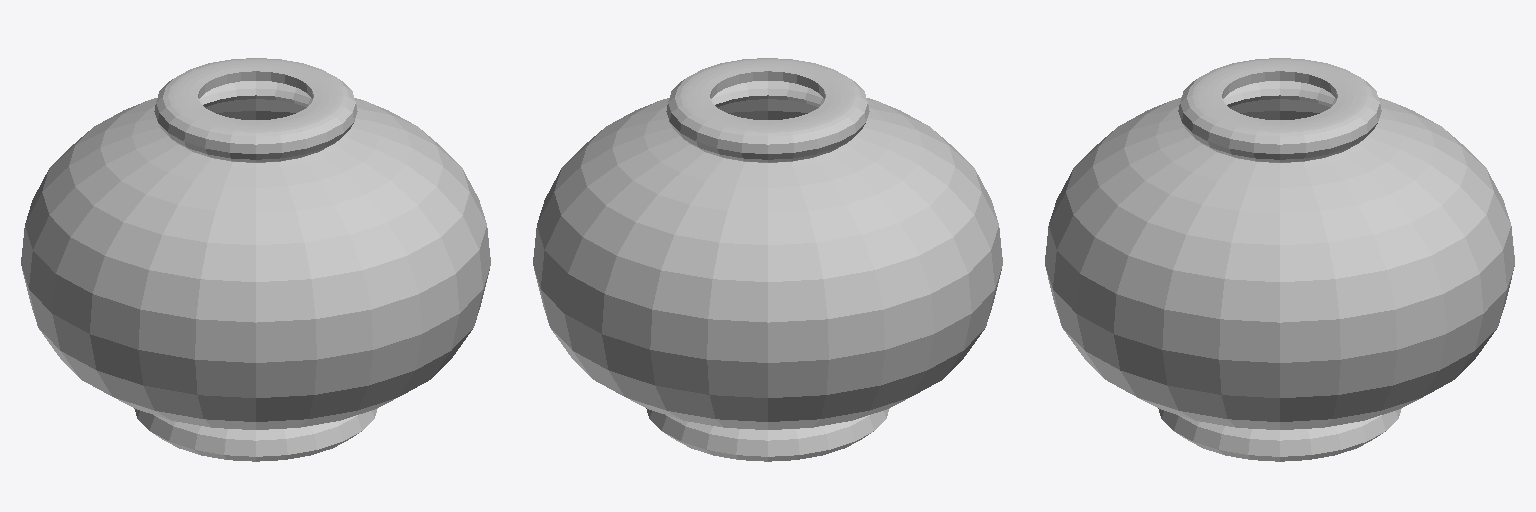
The model's file is Jerry the Goldfish and Meg the Mermaid Final.obj.
3 renders of one model, left to right at view 1: azimuth 30°, elevation 25°; view 2: azimuth 150°, elevation 25°; view 3: azimuth 270°, elevation 25°, orthographic.
Parts seen in each view (by area): view 1: Bowl; view 2: Bowl; view 3: Bowl.
Part boxes in pixels (x1,y1,x2,y2): Bowl: (21,58,490,461); Bowl: (533,58,1002,461); Bowl: (1045,58,1514,461).
Bounding box in the file's own units: 146 × 110 × 146.